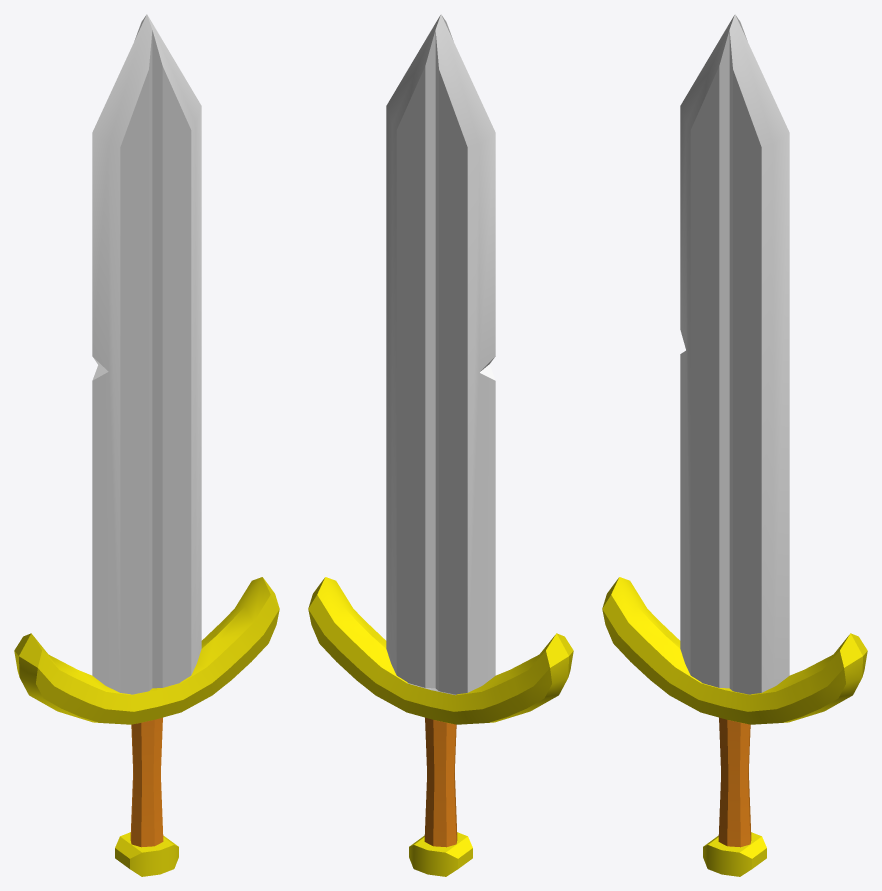
The model's file is Sword.fbx.
The picture shows the model from 3 angles, left to right: view 1: azimuth 30°, elevation 25°; view 2: azimuth 150°, elevation 25°; view 3: azimuth 330°, elevation 25°; orthographic projection.
Visible parts, largest first — view 1: Sword; view 2: Sword; view 3: Sword.
Part boxes in pixels (left/top/right/bottom): Sword: left=14, top=14, right=279, bottom=876; Sword: left=308, top=14, right=573, bottom=876; Sword: left=602, top=14, right=867, bottom=876.
Size of the model in its own units: 122 by 388 by 21.83.
